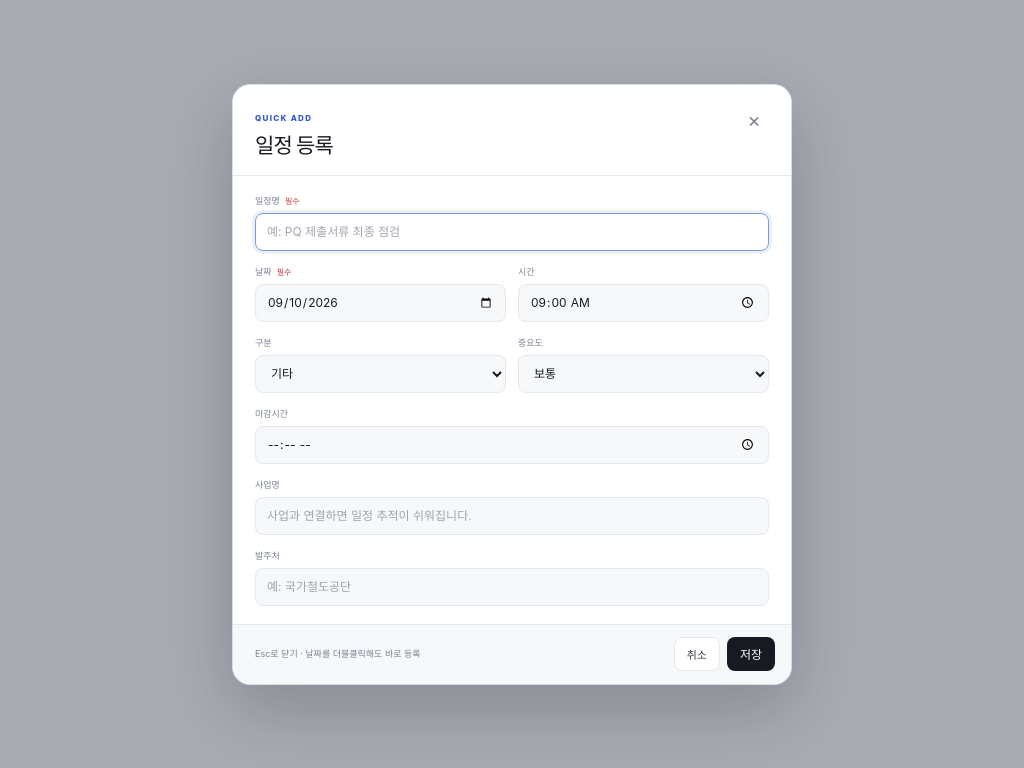
Test: QuickEventDialog › requires an event title before saving
Click the button "저장": (751, 654) [727,636,775,670]
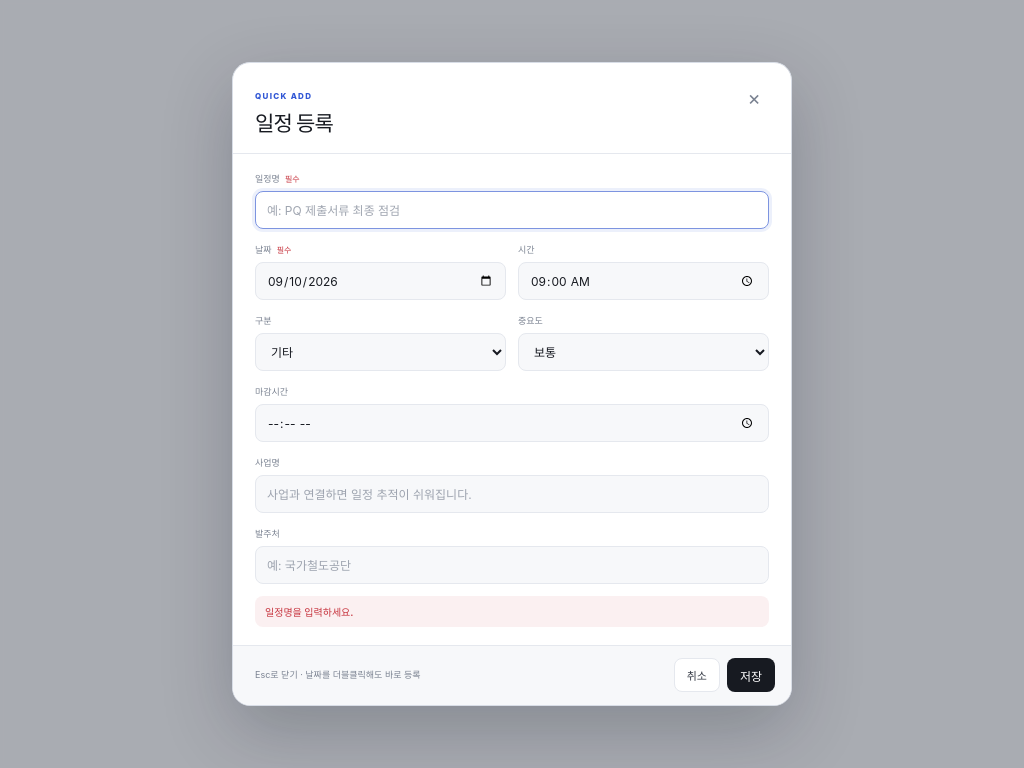
Expected: the text "일정명을 입력하세요." is shown, [255,596,769,627]
